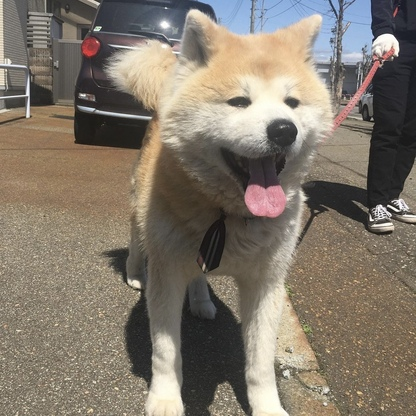akita: (92, 5, 344, 416)
